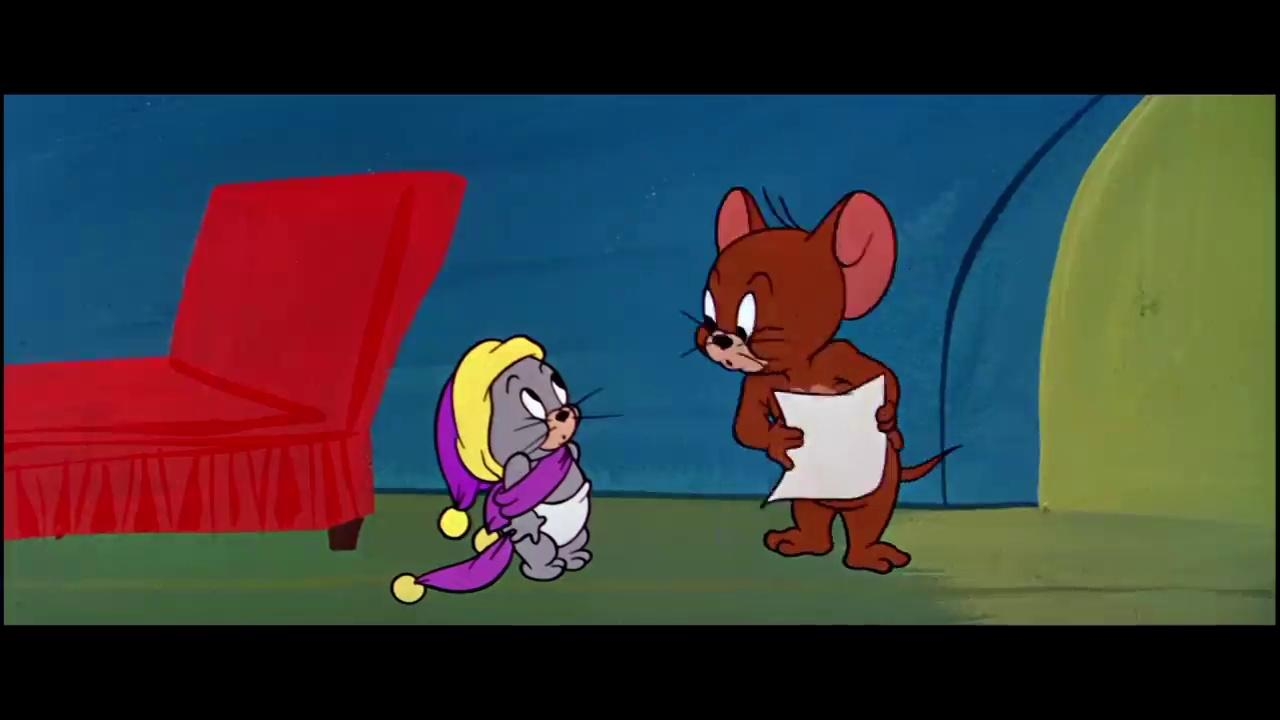Jerry: (683, 184, 967, 576)
